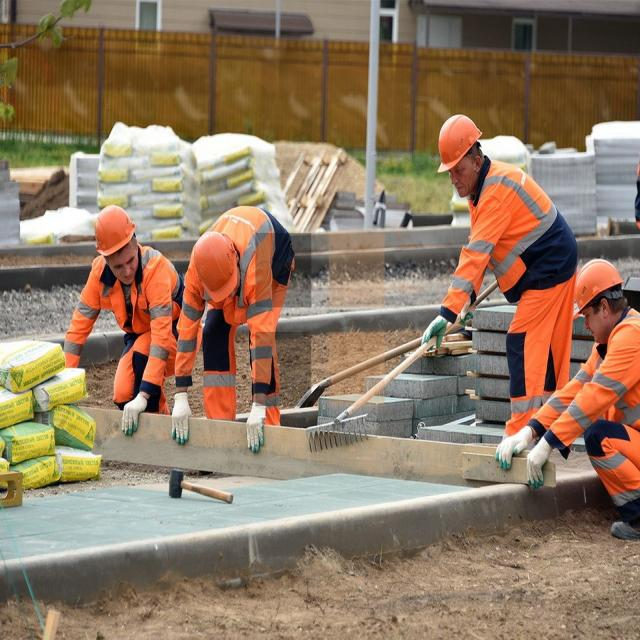Helmet: (193, 229, 242, 304), (574, 259, 626, 323), (435, 116, 484, 175), (96, 206, 138, 260)
Jacket: (475, 159, 571, 275), (233, 208, 292, 363), (591, 322, 640, 474), (113, 264, 181, 359)
